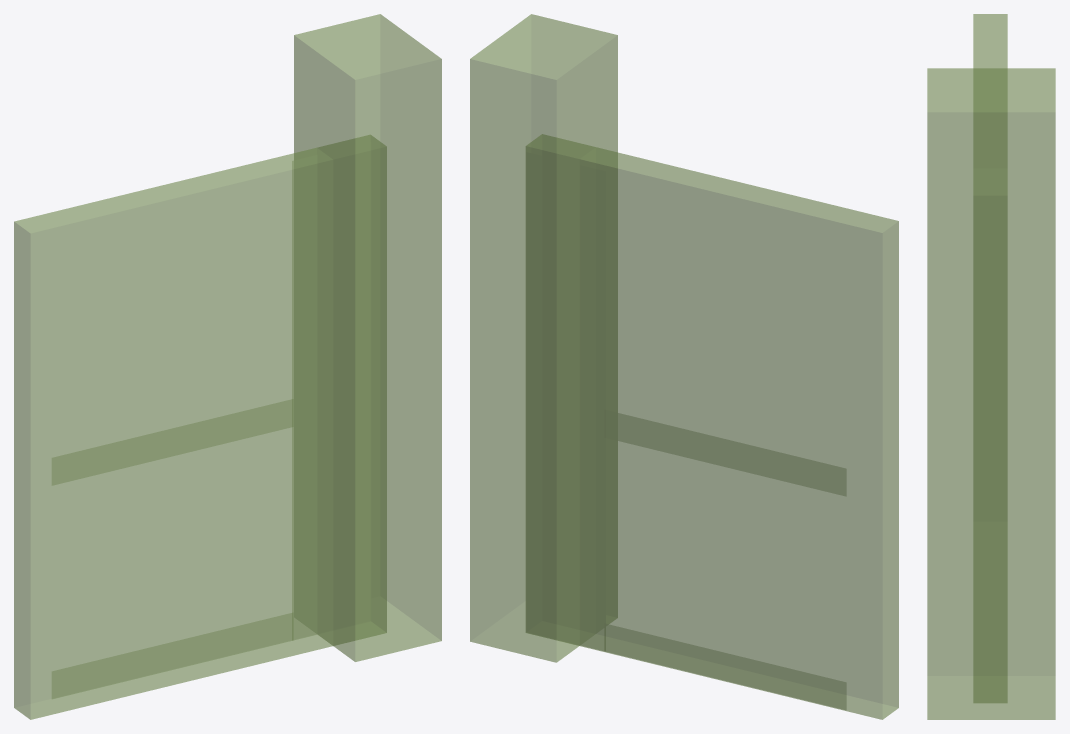
File: Bar_cap_COL.fbx
3 renders of one model, left to right at view 1: azimuth 30°, elevation 25°; view 2: azimuth 150°, elevation 25°; view 3: azimuth 270°, elevation 25°, orthographic. The views are drawn at different scales.
Visible parts, largest first — view 1: Bar_cap_COL; view 2: Bar_cap_COL; view 3: Bar_cap_COL.
Part boxes in pixels (bbox=[...]): Bar_cap_COL: bbox=[14, 14, 441, 719]; Bar_cap_COL: bbox=[470, 14, 898, 719]; Bar_cap_COL: bbox=[927, 14, 1055, 719].
Bounding box in the file's own units: 98.65 × 141 × 26.93.
